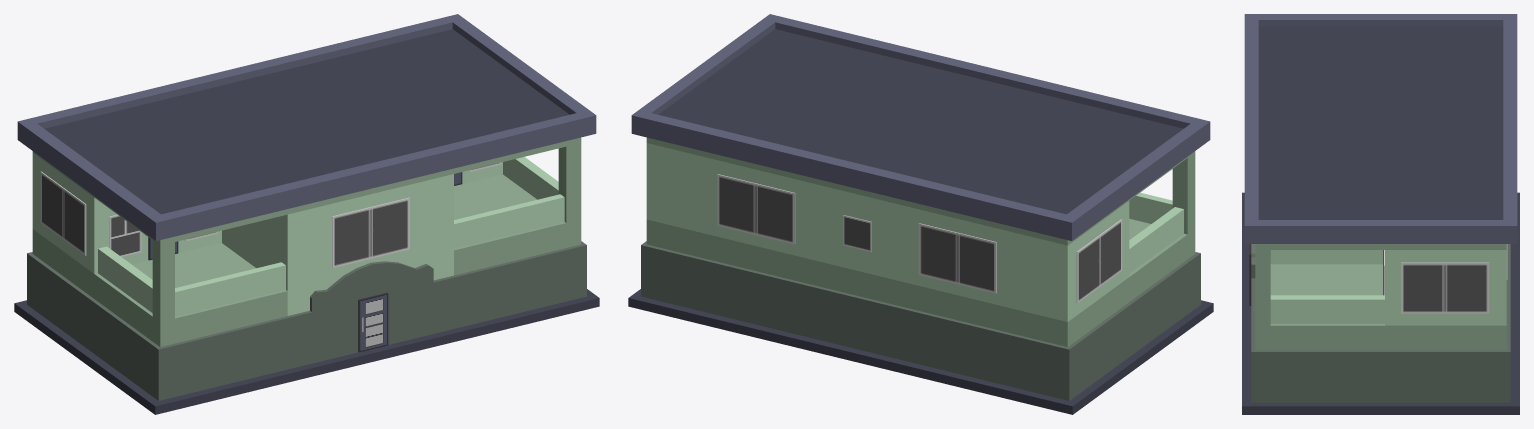
The model's file is house11_color02.fbx.
The picture shows the model from 3 angles, left to right: view 1: azimuth 30°, elevation 25°; view 2: azimuth 150°, elevation 25°; view 3: azimuth 270°, elevation 25°; orthographic projection.
Visible parts, largest first — view 1: house11_color02; view 2: house11_color02; view 3: house11_color02.
Part boxes in pixels (box(x1,y1,x2,y2)): house11_color02: box(14, 14, 599, 414); house11_color02: box(628, 14, 1213, 414); house11_color02: box(1242, 14, 1519, 414).
Size of the model in its own units: 1921 by 789 by 1055.
